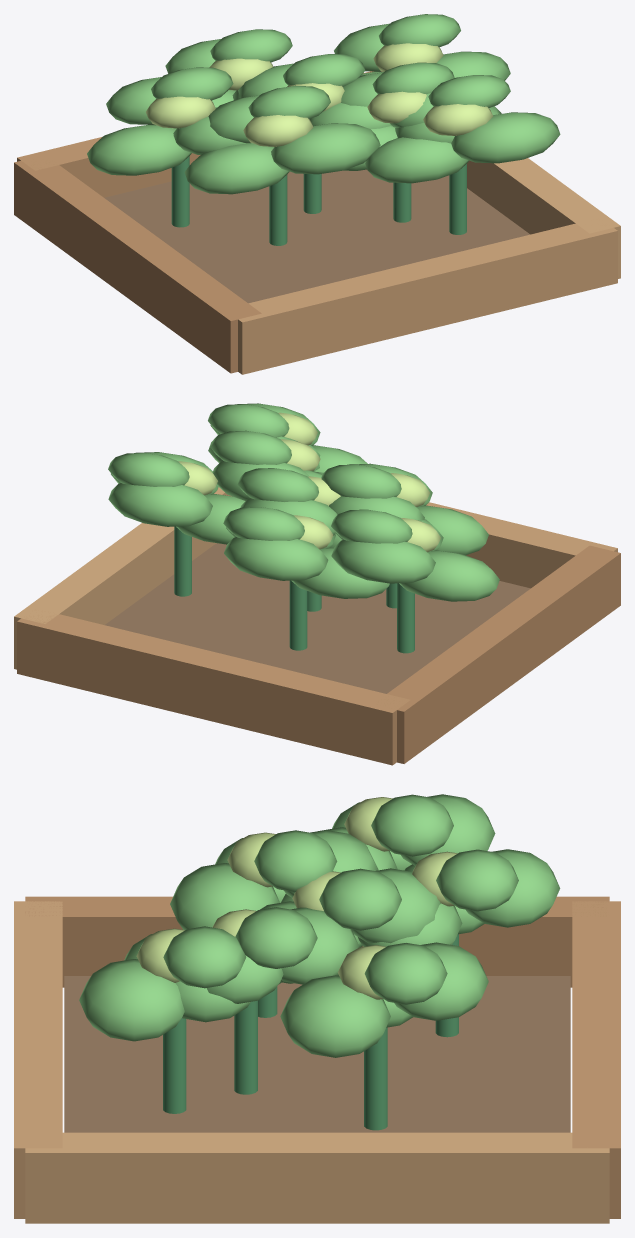
Rendered from crop_leafy_late.glb.
3 views of the same model, one above another, from view 1: azimuth 30°, elevation 25°; view 2: azimuth 150°, elevation 25°; view 3: azimuth 270°, elevation 25° (orthographic). The views are drawn at different scales.
Bounding box in the file's own units: 0.9585 × 0.4032 × 0.935.
